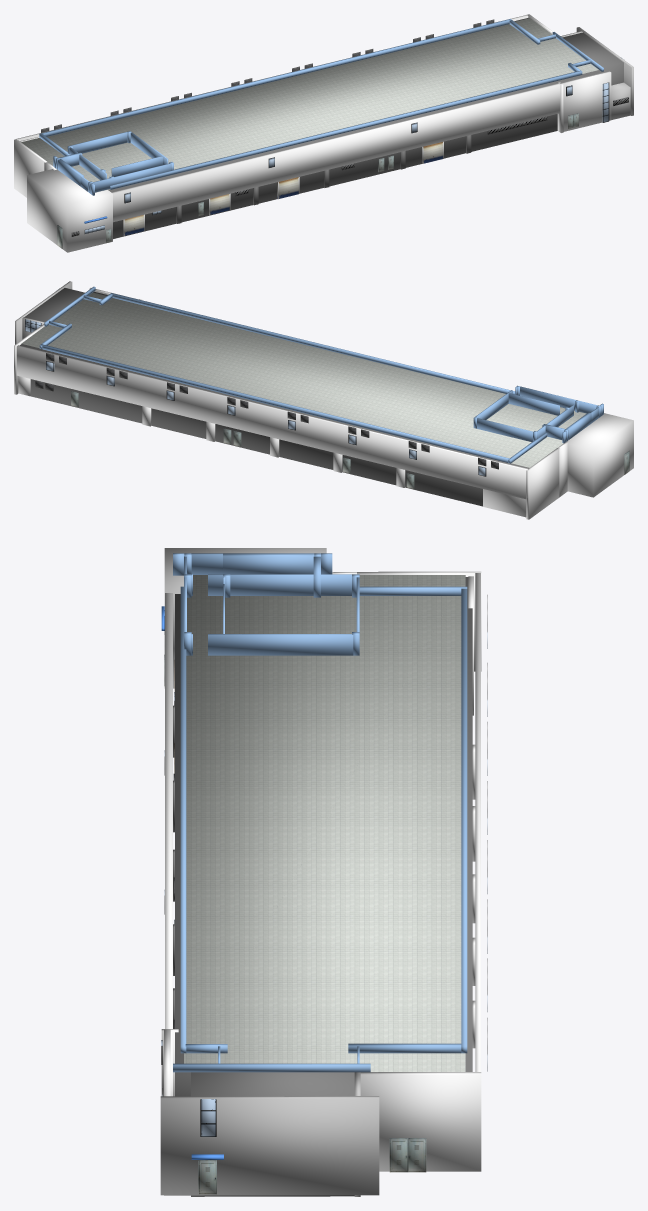
Rendered from whfa_3f_mini.gltf.
3 views of the same model, one above another, from view 1: azimuth 30°, elevation 25°; view 2: azimuth 150°, elevation 25°; view 3: azimuth 270°, elevation 25° (orthographic). The views are drawn at different scales.
Parts seen in each view (by area): view 1: whfa_dimian_rf, whfa_waiguan_r_39, whfa_waiguan_r_81, whfa_waiguan_r_60, whfa_qiang_rf_6, whfa_qiang_rf_5, whfa_waiguan_r_25, whfa_waiguan_r_50, whfa_waiguan_r_23, whfa_qiang_rf_18, whfa_qiang_rf_23, whfa_waiguan_r_10 (+9 smaller); view 2: whfa_dimian_rf, whfa_waiguan_r_79, whfa_waiguan_r_81, whfa_waiguan_r_60, whfa_qiang_rf_6, whfa_qiang_rf_5, whfa_waiguan_r_23, whfa_waiguan_r_50, whfa_waiguan_r_57, whfa_qiang_rf_18, whfa_qiang_rf_23, whfa_qiang_rf_27 (+3 smaller); view 3: whfa_dimian_rf, whfa_waiguan_r_47, whfa_waiguan_r_24, whfa_waiguan_r_81, whfa_waiguan_r_50, whfa_waiguan_r_39, whfa_qiang_rf_6, whfa_qiang_rf_25, whfa_qiang_rf_5, whfa_waiguan_r_79, whfa_qiang_rf_22, whfa_qiang_rf_12 (+4 smaller).
Part boxes in pixels (x1,y1,x2,y2): whfa_dimian_rf: [21, 18, 598, 192]; whfa_waiguan_r_39: [111, 72, 604, 222]; whfa_waiguan_r_81: [108, 17, 603, 238]; whfa_waiguan_r_60: [27, 169, 112, 252]; whfa_qiang_rf_6: [41, 19, 511, 136]; whfa_qiang_rf_5: [110, 70, 582, 189]; whfa_waiguan_r_25: [560, 71, 611, 131]; whfa_waiguan_r_50: [562, 32, 623, 85]; whfa_waiguan_r_23: [14, 139, 46, 197]; whfa_qiang_rf_18: [93, 163, 170, 192]; whfa_qiang_rf_23: [71, 132, 127, 153]; whfa_waiguan_r_10: [611, 82, 630, 119]; whfa_dimian_rf: [21, 292, 586, 467]; whfa_waiguan_r_79: [16, 345, 527, 499]; whfa_waiguan_r_81: [19, 291, 529, 506]; whfa_waiguan_r_60: [567, 413, 633, 497]; whfa_qiang_rf_6: [40, 344, 509, 462]; whfa_qiang_rf_5: [110, 293, 515, 394]; whfa_waiguan_r_23: [526, 448, 559, 519]; whfa_waiguan_r_50: [24, 288, 84, 322]; whfa_waiguan_r_57: [483, 463, 527, 517]; whfa_qiang_rf_18: [520, 386, 597, 413]; whfa_qiang_rf_23: [477, 418, 533, 441]; whfa_qiang_rf_27: [508, 393, 559, 415]; whfa_dimian_rf: [184, 575, 465, 1071]; whfa_waiguan_r_47: [160, 1096, 379, 1195]; whfa_waiguan_r_24: [360, 1072, 481, 1171]; whfa_waiguan_r_81: [175, 577, 472, 1096]; whfa_waiguan_r_50: [191, 1072, 354, 1196]; whfa_waiguan_r_39: [165, 593, 172, 1096]; whfa_qiang_rf_6: [461, 588, 467, 1053]; whfa_qiang_rf_25: [208, 634, 353, 655]; whfa_qiang_rf_5: [180, 586, 186, 1053]; whfa_waiguan_r_79: [475, 573, 480, 1071]; whfa_qiang_rf_22: [208, 574, 351, 595]; whfa_qiang_rf_12: [223, 553, 314, 574].
Bounding box in the file's own units: 355 × 35.56 × 88.28.
29 materials, 24 textured.
